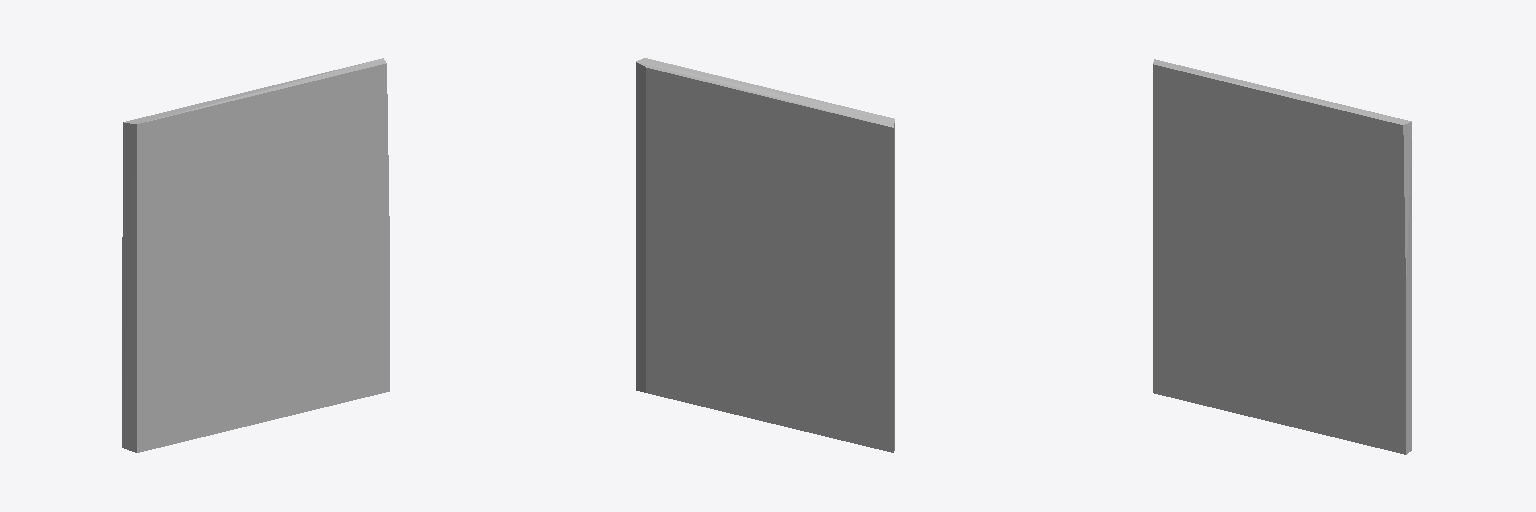
The model's file is sektion_convexdecomposition0.obj.
3 renders of one model, left to right at view 1: azimuth 30°, elevation 25°; view 2: azimuth 150°, elevation 25°; view 3: azimuth 330°, elevation 25°, orthographic.
Size of the model in its own units: 0.6362 by 0.77 by 0.0325.